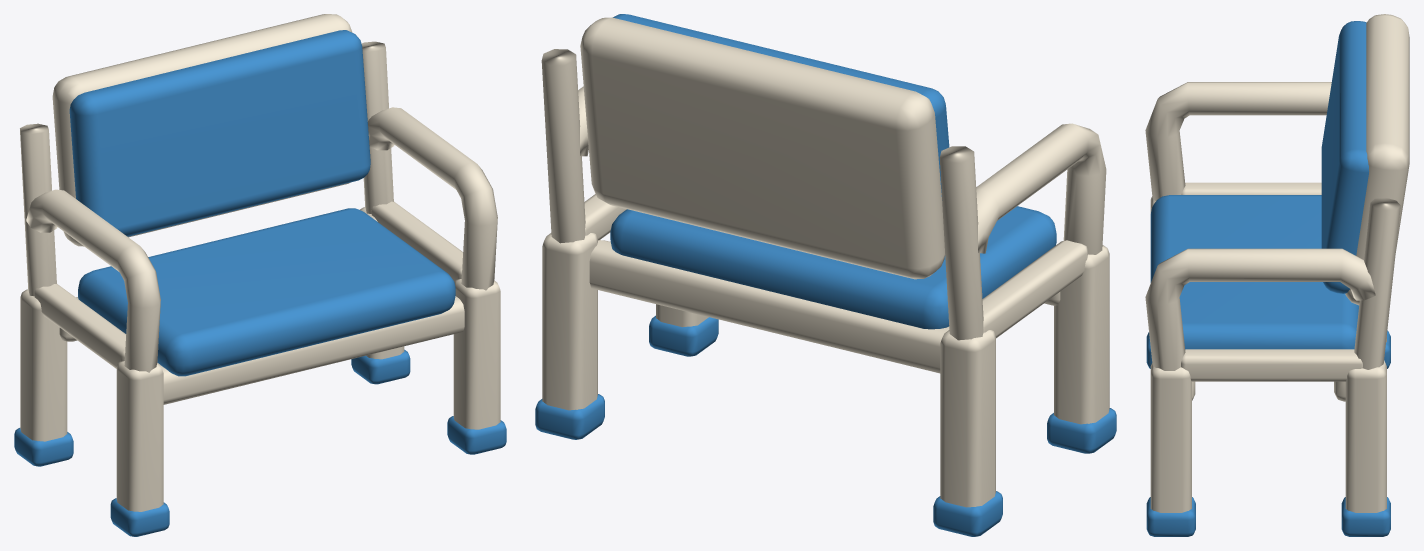
File: Lounge_Armchair.glb
3 renders of one model, left to right at view 1: azimuth 30°, elevation 25°; view 2: azimuth 150°, elevation 25°; view 3: azimuth 270°, elevation 25°, orthographic. The views are drawn at different scales.
Visible parts, largest first — view 1: Lounge_Armchair__Visual; view 2: Lounge_Armchair__Visual; view 3: Lounge_Armchair__Visual.
Boxes of the visible parts, box(x1,y1,x2,y2) form: Lounge_Armchair__Visual: box(14, 14, 506, 536); Lounge_Armchair__Visual: box(535, 14, 1116, 536); Lounge_Armchair__Visual: box(1145, 14, 1409, 536).
Bounding box in the file's own units: 1.01 × 0.9242 × 0.6027.
1 material, 1 textured.
